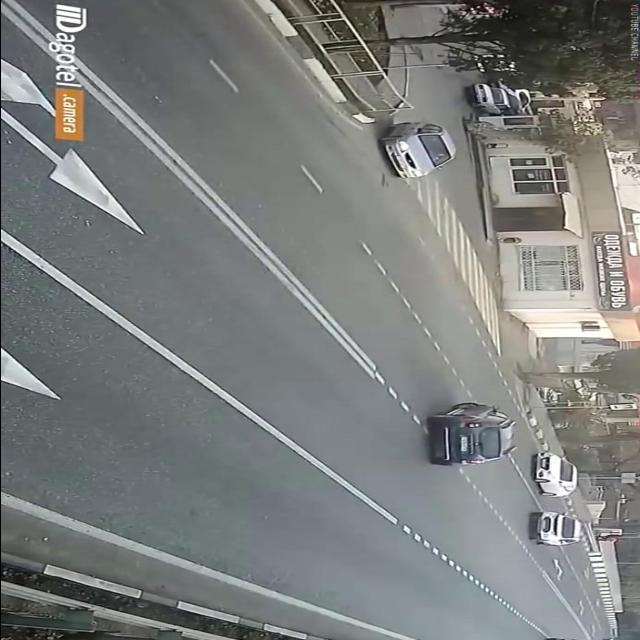non_accident: (420, 398, 585, 550)
